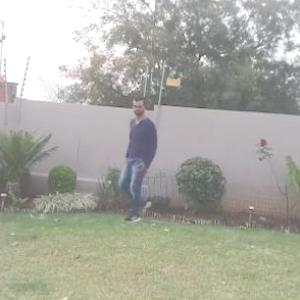follow: (120, 92, 168, 228)
